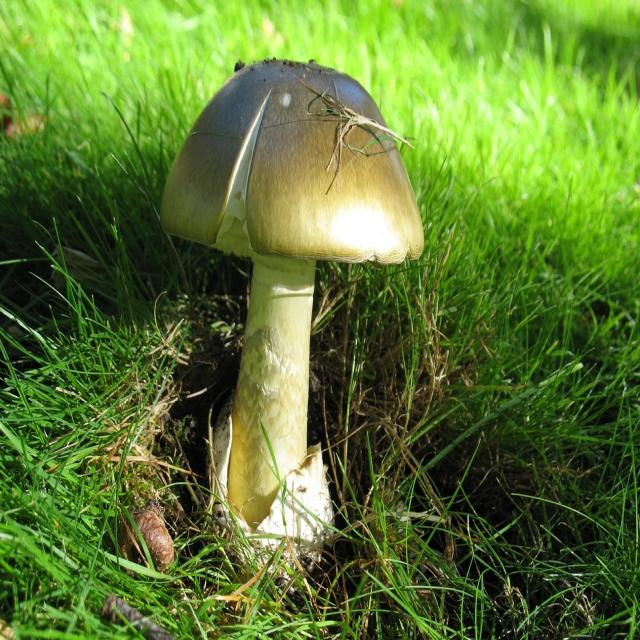death-cap: (159, 60, 426, 544)
